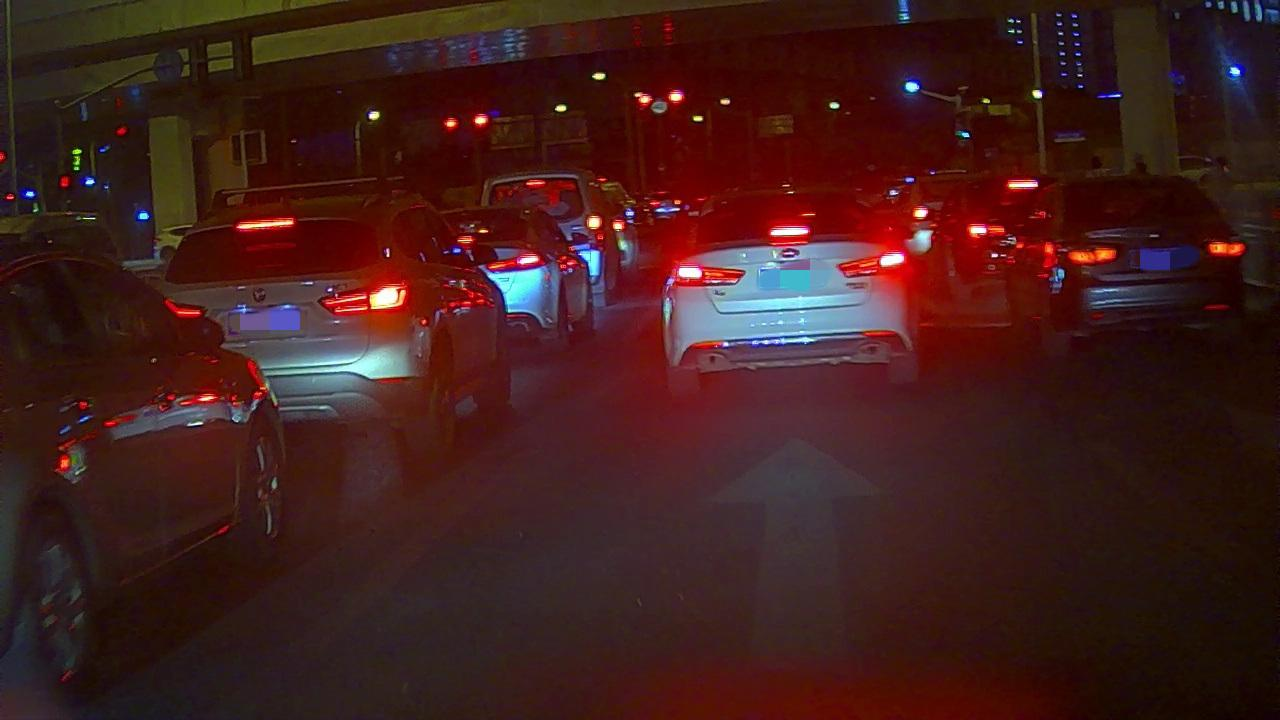traffic_light: (469, 107, 491, 131), (899, 75, 921, 99), (663, 86, 687, 106), (439, 114, 460, 134), (636, 90, 655, 110)
